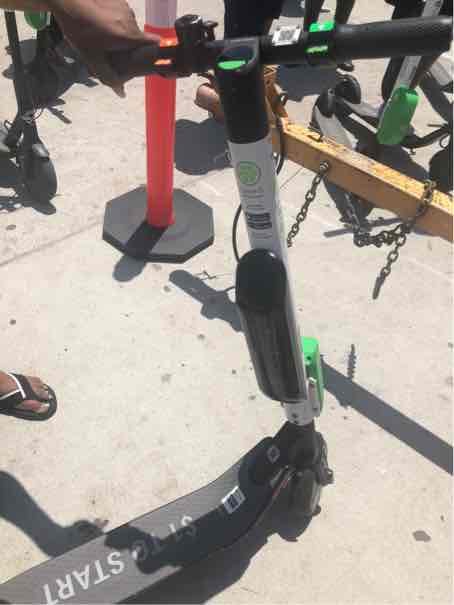scooter: (1, 13, 453, 602)
